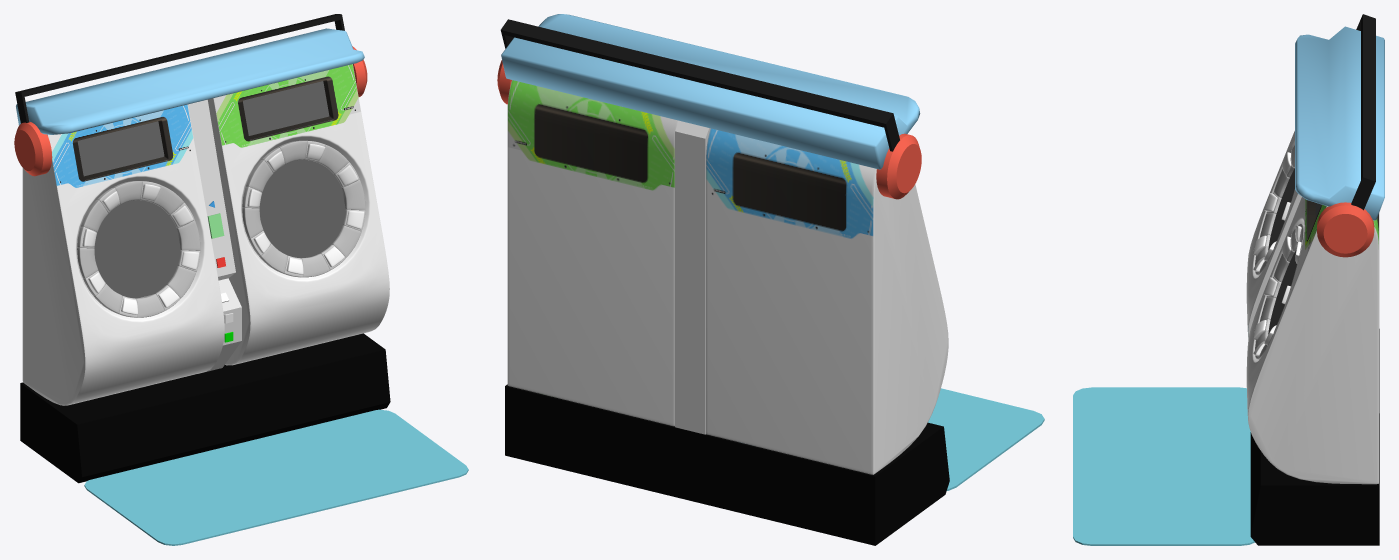
The model's file is DXCab2023.glb.
The picture shows the model from 3 angles, left to right: view 1: azimuth 30°, elevation 25°; view 2: azimuth 150°, elevation 25°; view 3: azimuth 270°, elevation 25°; orthographic projection. The views are drawn at different scales.
Visible parts, largest first — view 1: Body P1, Base, GroundPlate, Body P2, Cap, Display P1, Display P2, Ring, Side Box Front, Buttons, HF top, Buttons Base (+1 smaller); view 2: Body P1, Body P2, Base, Cap, Side Box Side, HF top, GroundPlate, HF; view 3: GroundPlate, Body P2, Cap, Base, HF top, HF, Body P1, Buttons, Ring, Display P2, Buttons Base, Display P1.
Part boxes in pixels (bbox=[...]): Body P1: bbox=[22, 104, 224, 405]; Base: bbox=[20, 333, 390, 483]; GroundPlate: bbox=[84, 409, 468, 545]; Body P2: bbox=[208, 64, 389, 365]; Cap: bbox=[16, 28, 364, 134]; Display P1: bbox=[77, 121, 180, 298]; Display P2: bbox=[243, 81, 345, 258]; Ring: bbox=[77, 140, 365, 317]; Side Box Front: bbox=[188, 99, 241, 373]; Buttons: bbox=[82, 144, 364, 314]; HF top: bbox=[15, 14, 344, 123]; Buttons Base: bbox=[77, 140, 365, 317]; Body P1: bbox=[706, 128, 948, 474]; Body P2: bbox=[507, 80, 678, 426]; Base: bbox=[505, 384, 949, 545]; Cap: bbox=[501, 14, 920, 169]; Side Box Side: bbox=[675, 120, 710, 434]; HF top: bbox=[500, 19, 899, 151]; GroundPlate: bbox=[928, 388, 1044, 490]; HF: bbox=[497, 60, 921, 199]; GroundPlate: bbox=[1073, 387, 1254, 545]; Body P2: bbox=[1246, 197, 1378, 484]; Cap: bbox=[1295, 26, 1384, 220]; Base: bbox=[1250, 329, 1379, 545]; HF top: bbox=[1351, 14, 1375, 210]; HF: bbox=[1317, 202, 1374, 257]; Body P1: bbox=[1246, 131, 1301, 338]; Buttons: bbox=[1253, 152, 1301, 356]; Ring: bbox=[1255, 145, 1304, 358]; Display P2: bbox=[1268, 203, 1321, 334]; Buttons Base: bbox=[1255, 150, 1304, 359]; Display P1: bbox=[1268, 168, 1294, 250].
Size of what is drawn, in the model's own units: 2.07 by 2.12 by 1.61.
17 materials, 2 textured.
